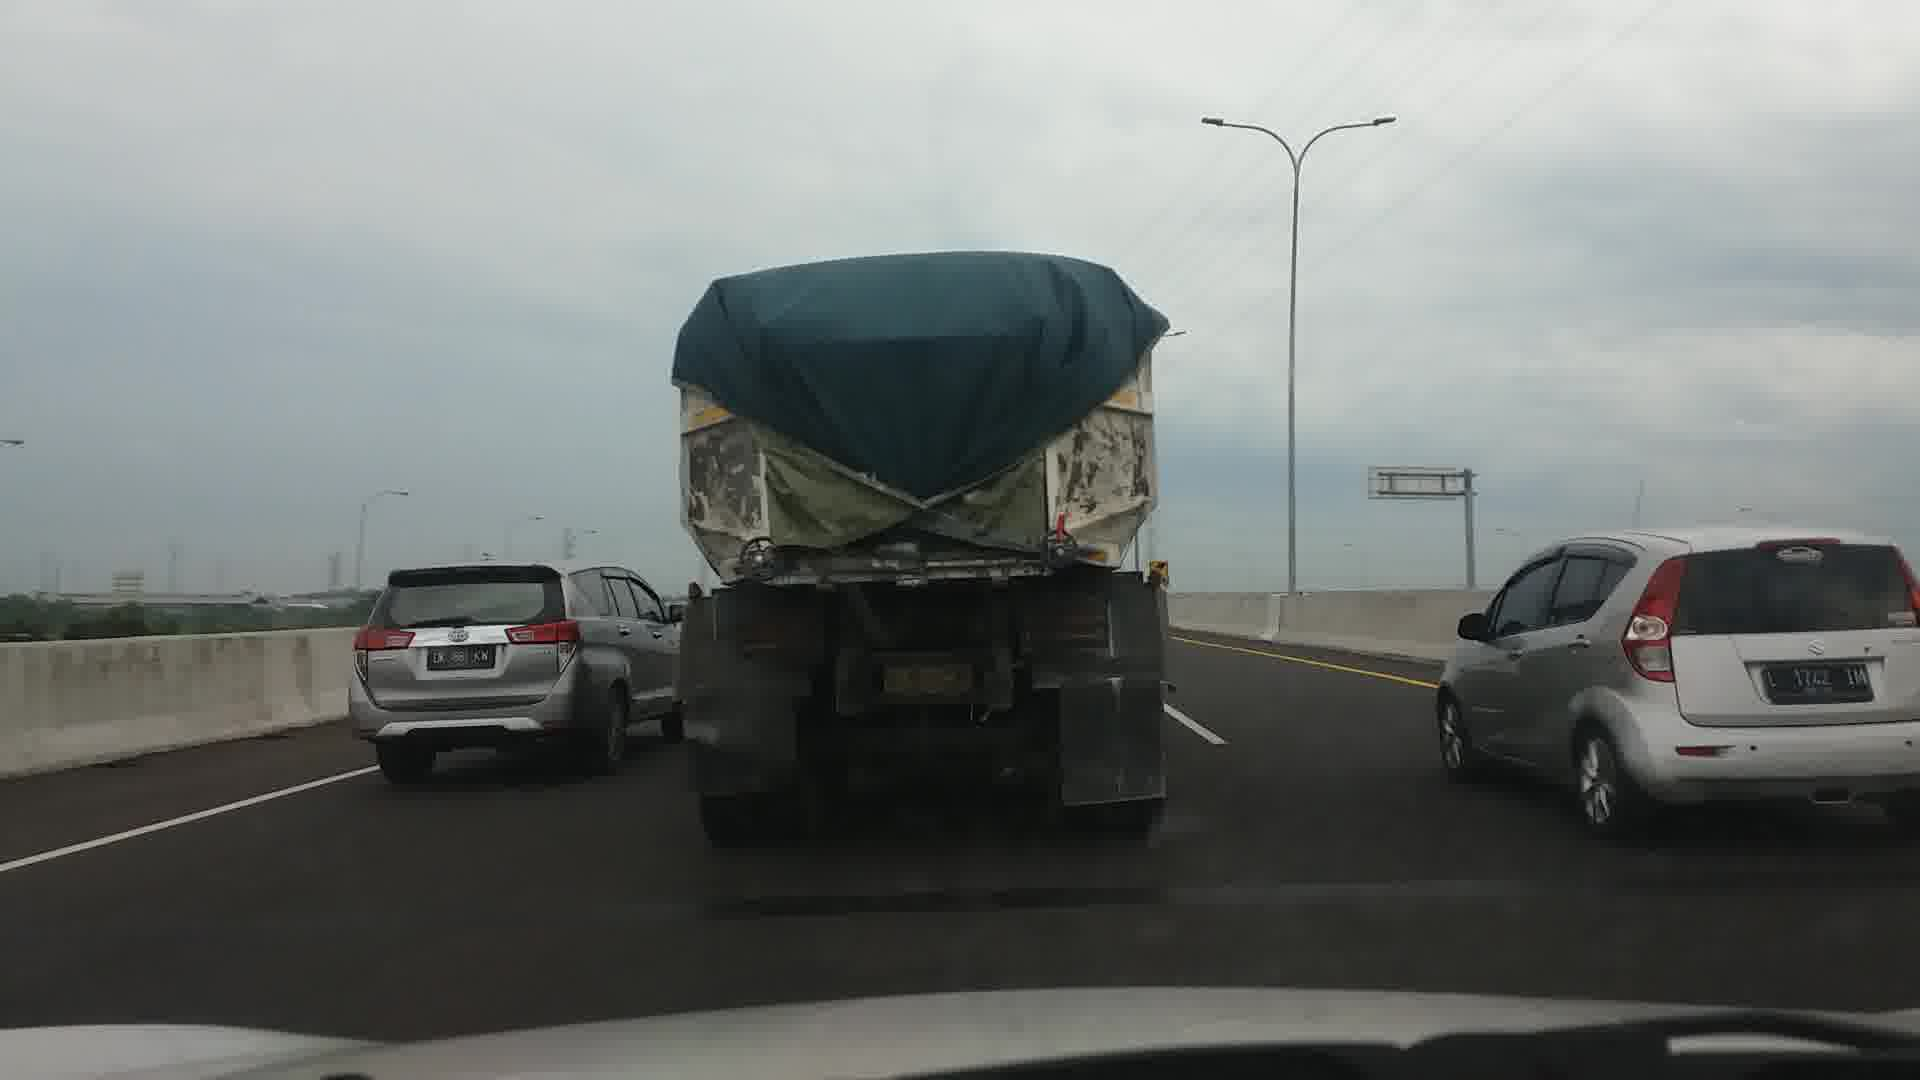plate_positive: (1760, 665, 1874, 702), (884, 665, 975, 694), (427, 646, 496, 670)
